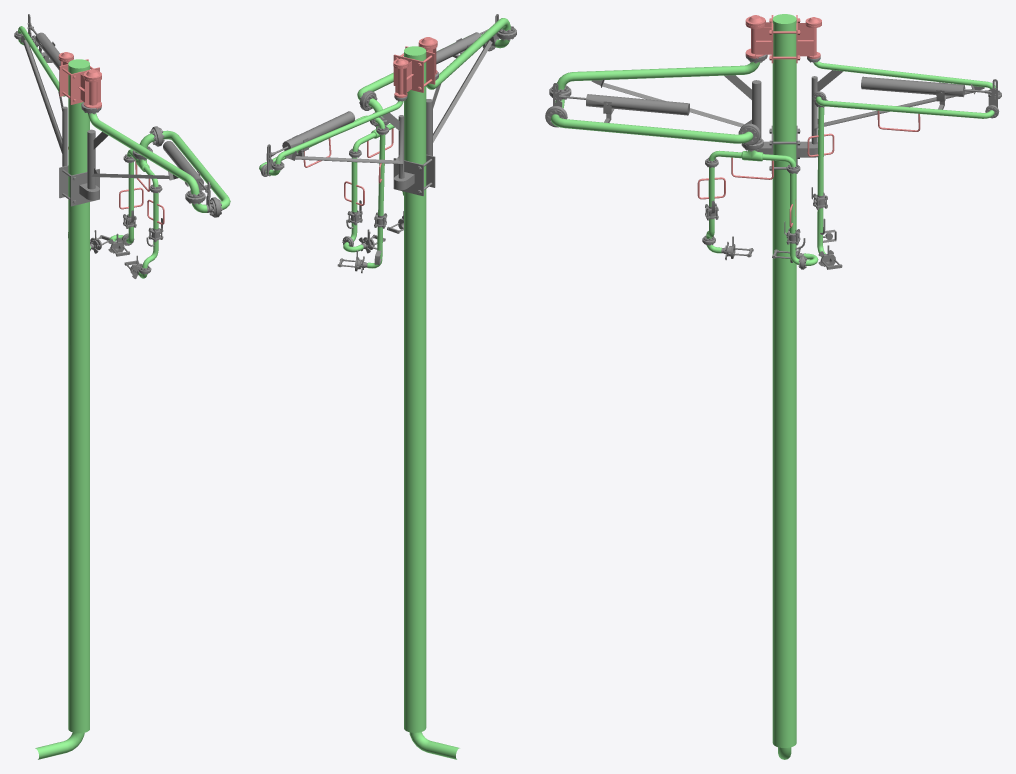
The model's file is SM_SUG_All.gltf.
3 renders of one model, left to right at view 1: azimuth 30°, elevation 25°; view 2: azimuth 150°, elevation 25°; view 3: azimuth 270°, elevation 25°, orthographic. The views are drawn at different scales.
Parts seen in each view (by area): view 1: SM_SUG_All; view 2: SM_SUG_All; view 3: SM_SUG_All.
Boxes of the visible parts, x1,y1,x2,y2 form: SM_SUG_All: [14, 14, 230, 759]; SM_SUG_All: [259, 14, 516, 759]; SM_SUG_All: [545, 14, 1001, 759].
Bounding box in the file's own units: 1.11 × 6.09 × 3.37.
